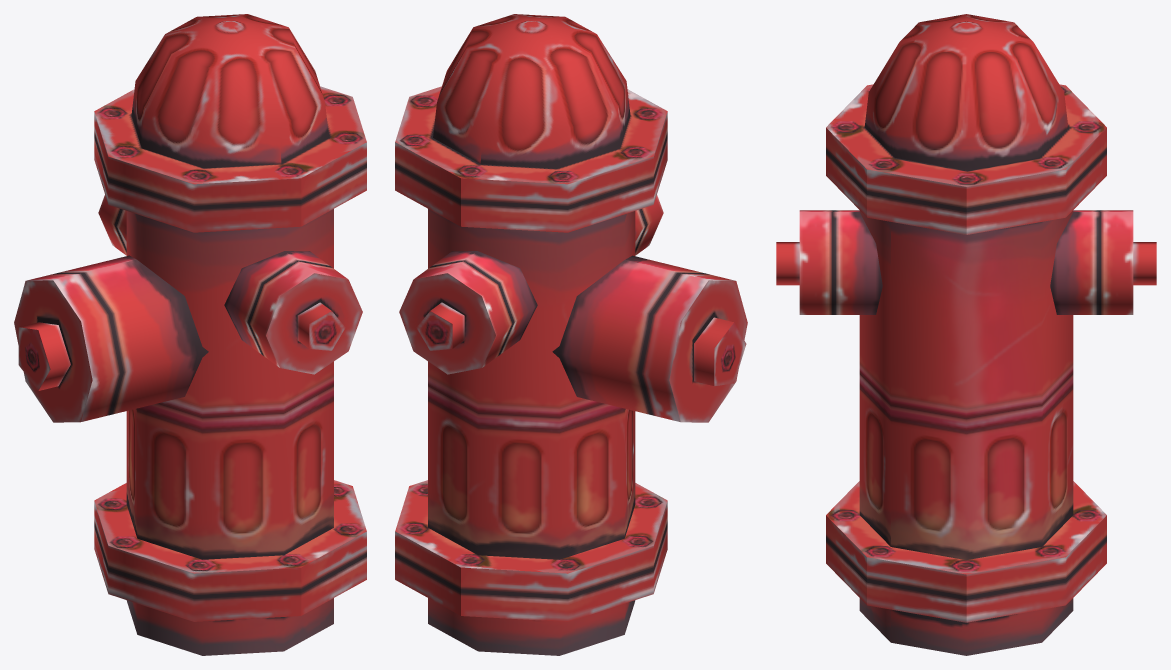
File: fireHydrant.fbx
The picture shows the model from 3 angles, left to right: view 1: azimuth 30°, elevation 25°; view 2: azimuth 150°, elevation 25°; view 3: azimuth 270°, elevation 25°; orthographic projection.
Visible parts, largest first — view 1: fireHydrant; view 2: fireHydrant; view 3: fireHydrant.
Boxes of the visible parts, left/top/right/bottom form: fireHydrant: left=14, top=14, right=366, bottom=655; fireHydrant: left=395, top=14, right=747, bottom=655; fireHydrant: left=776, top=14, right=1156, bottom=655.
Size of the model in its own units: 41.85 by 73.75 by 43.31.
